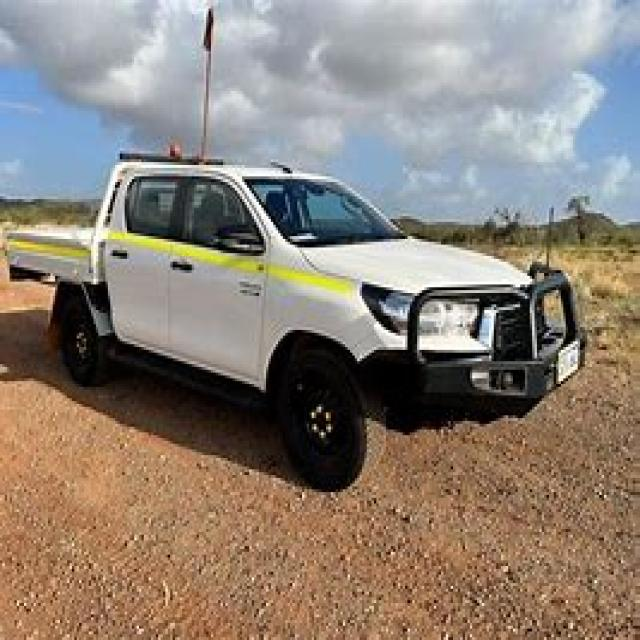light_vehicle: (5, 142, 592, 484)
